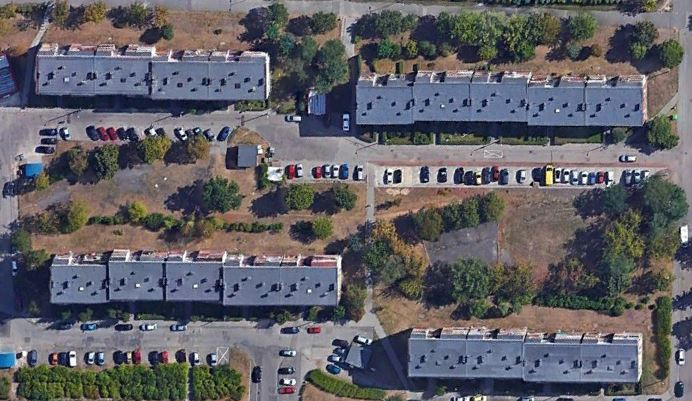block of flats: (44, 247, 344, 311), (353, 69, 650, 129), (30, 34, 276, 103), (404, 324, 647, 387)
